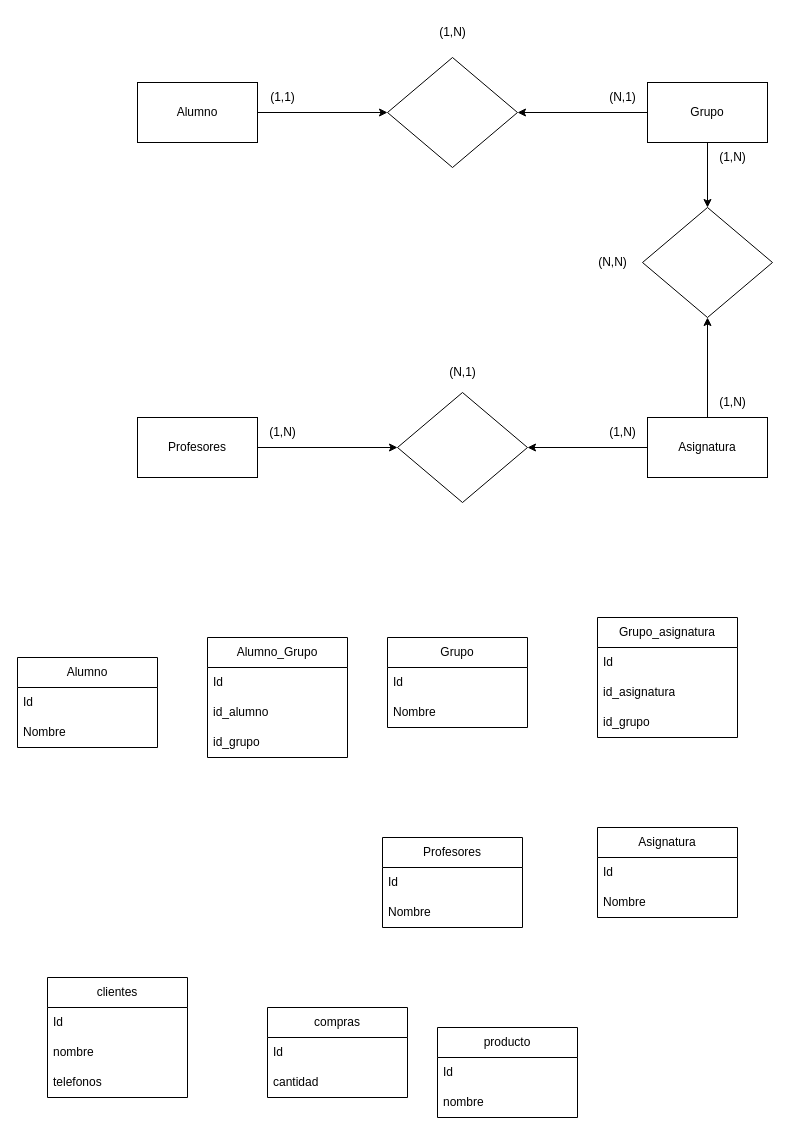
This 790x1135 diagram has some shape labels left out. The centre of each missing label's shape, as x and y in pixels:
"Esta" goes at [452,112].
"Imparte" goes at [462,447].
"tiene" goes at [707,262].
